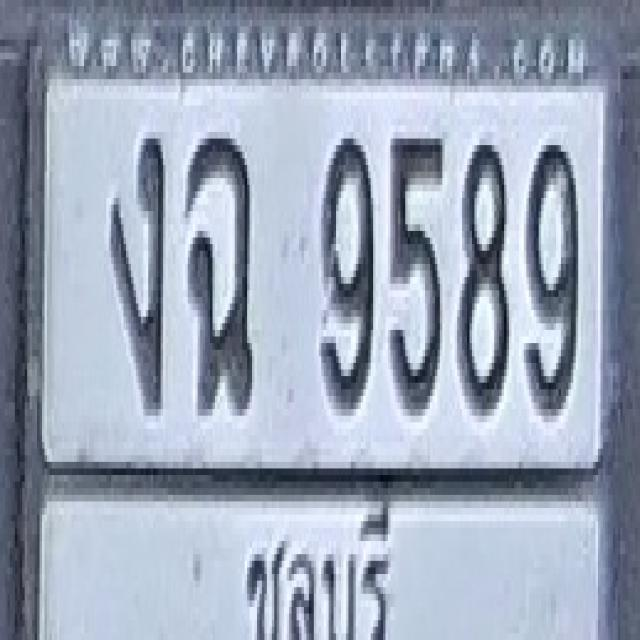5: (389, 132, 444, 409)
8: (457, 139, 509, 409)
9: (321, 132, 373, 409), (525, 136, 577, 412)
A07: (110, 132, 164, 409)
A09: (185, 132, 252, 409)
CBI: (238, 497, 398, 640)
